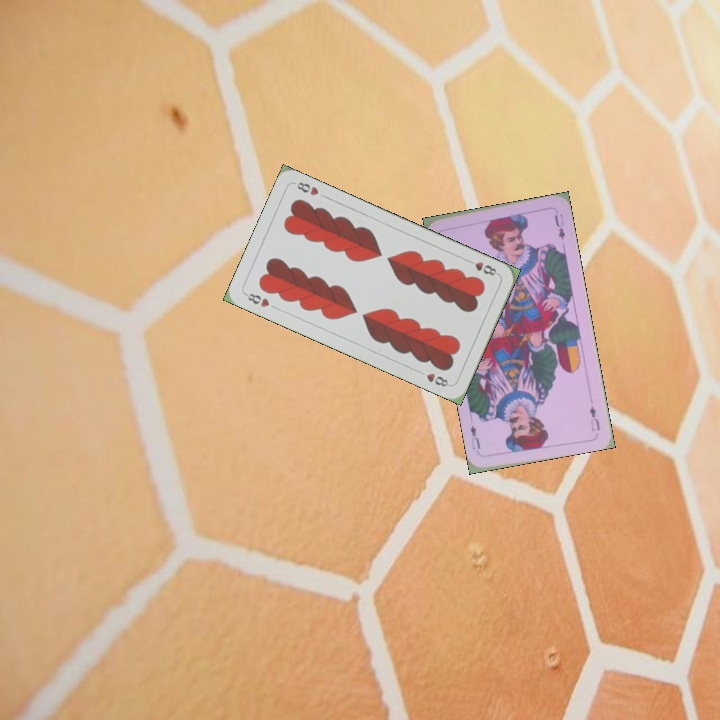EU: (586, 402, 603, 434)
H8: (463, 256, 501, 278), (241, 289, 272, 310)
